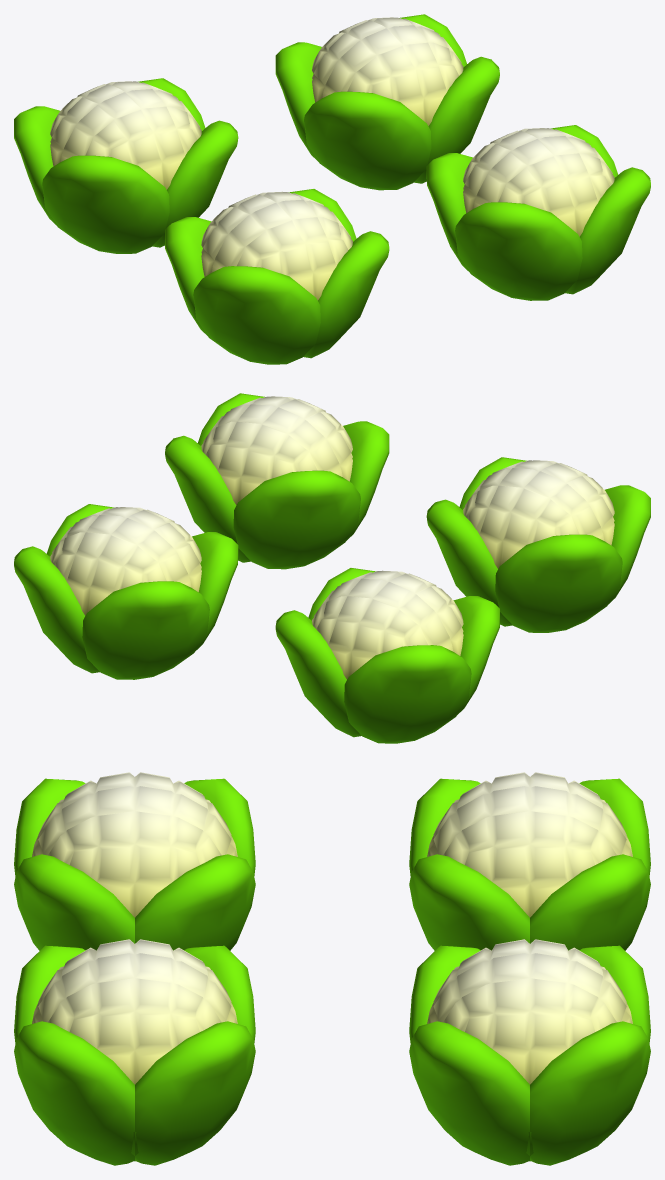
The model's file is Farm_Crop_Cauliflower_Step_03.fbx.
The picture shows the model from 3 angles, top to bottom: view 1: azimuth 30°, elevation 25°; view 2: azimuth 150°, elevation 25°; view 3: azimuth 270°, elevation 25°; orthographic projection. The views are drawn at different scales.
Visible parts, largest first — view 1: Farm_Crop_Cauliflower_Step_03; view 2: Farm_Crop_Cauliflower_Step_03; view 3: Farm_Crop_Cauliflower_Step_03.
Boxes of the visible parts, x1=… form: Farm_Crop_Cauliflower_Step_03: x1=14, y1=14, x2=650, y2=364; Farm_Crop_Cauliflower_Step_03: x1=14, y1=393, x2=650, y2=743; Farm_Crop_Cauliflower_Step_03: x1=14, y1=772, x2=650, y2=1165.
Size of the model in its own units: 167 by 56.37 by 161.
